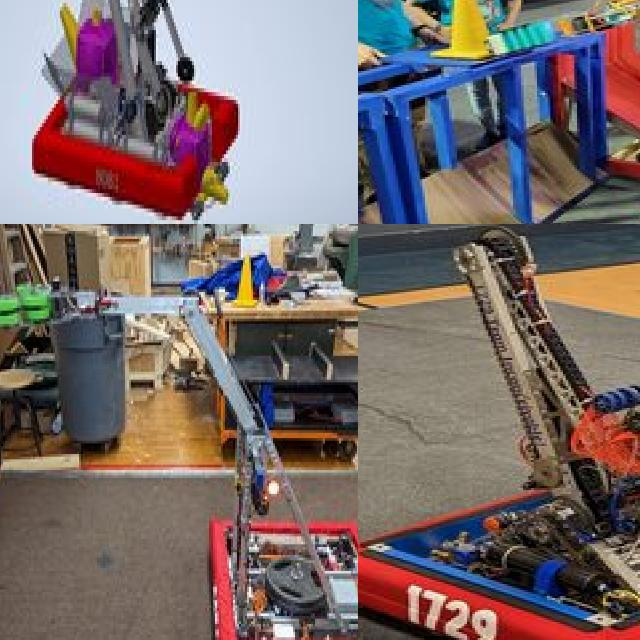FRC-Robots: (0, 269, 358, 640), (358, 224, 640, 640), (14, 0, 253, 224), (577, 0, 640, 224)
